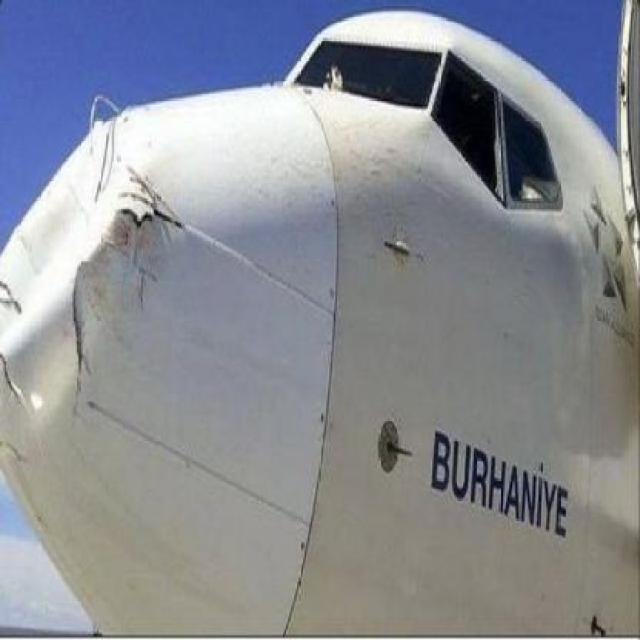crack: (120, 172, 186, 234), (70, 267, 83, 412)
dent: (0, 110, 157, 368)
